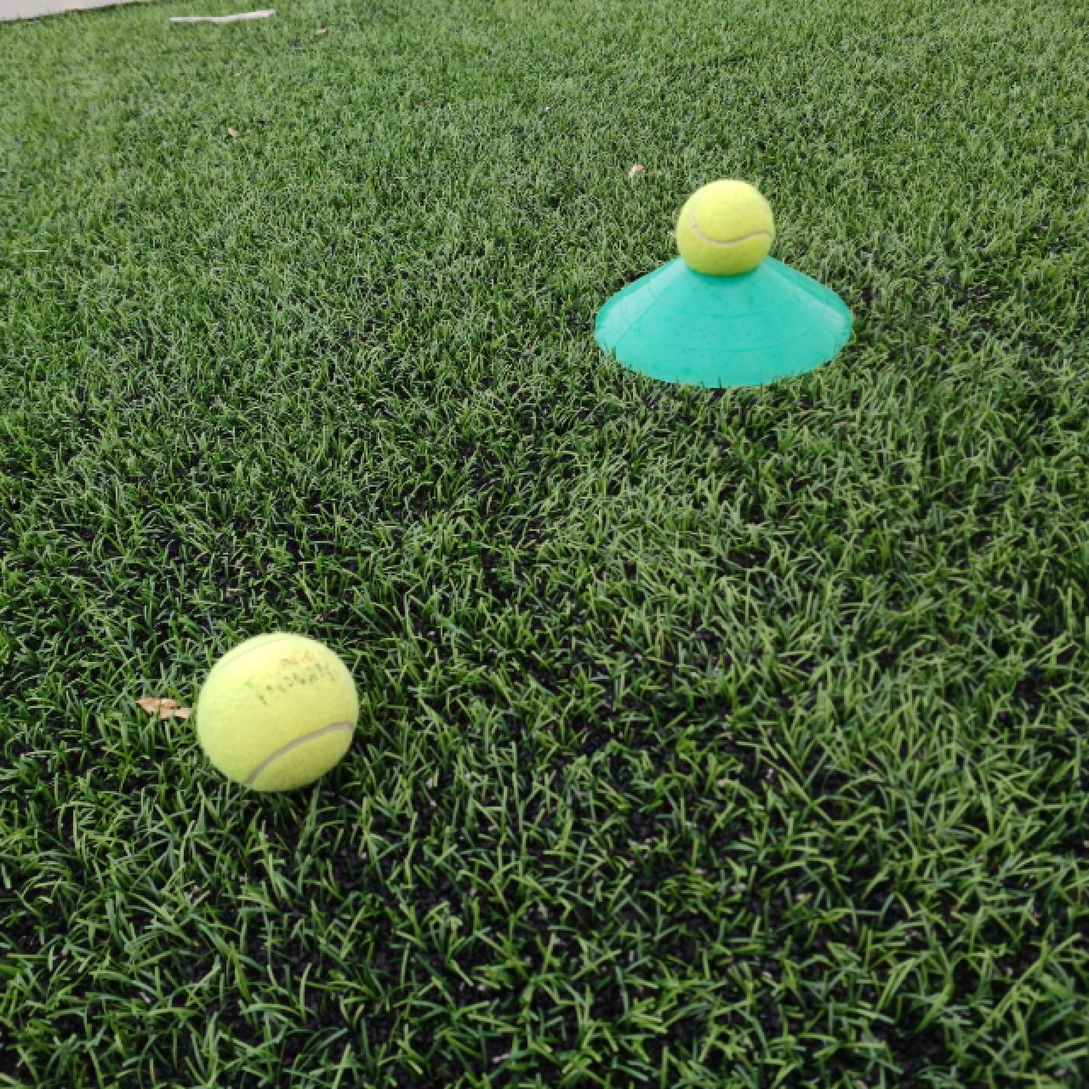tennis-ball: (197, 631, 357, 792), (676, 178, 775, 278)
